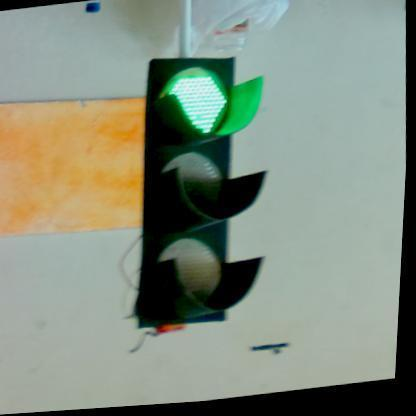green: (126, 50, 281, 332)
